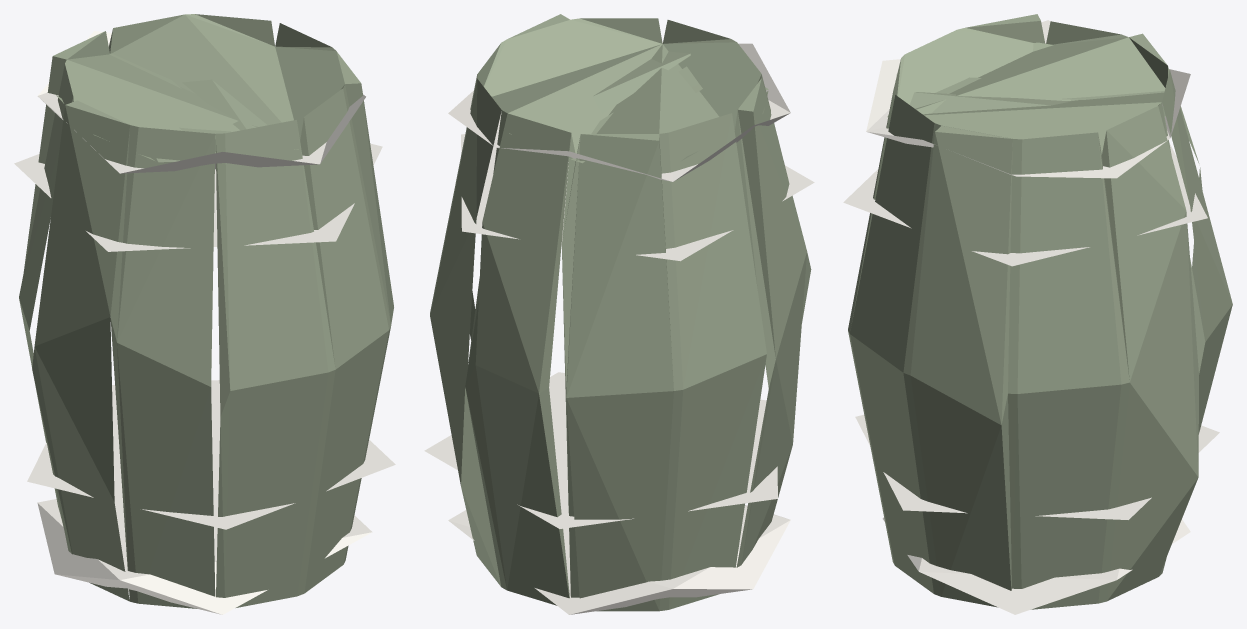
The model's file is barrel-DlsipAvt.glb.
3 views of the same model, side by side, from view 1: azimuth 30°, elevation 25°; view 2: azimuth 150°, elevation 25°; view 3: azimuth 270°, elevation 25° (orthographic).
Parts seen in each view (by area): view 1: Barrel_Cylinder.037; view 2: Barrel_Cylinder.037; view 3: Barrel_Cylinder.037.
Boxes of the visible parts, left/top/right/bottom form: Barrel_Cylinder.037: left=14, top=14, right=395, bottom=614; Barrel_Cylinder.037: left=424, top=14, right=814, bottom=614; Barrel_Cylinder.037: left=843, top=14, right=1232, bottom=614.
Size of the model in its own units: 0.1527 by 0.2032 by 0.1524.
